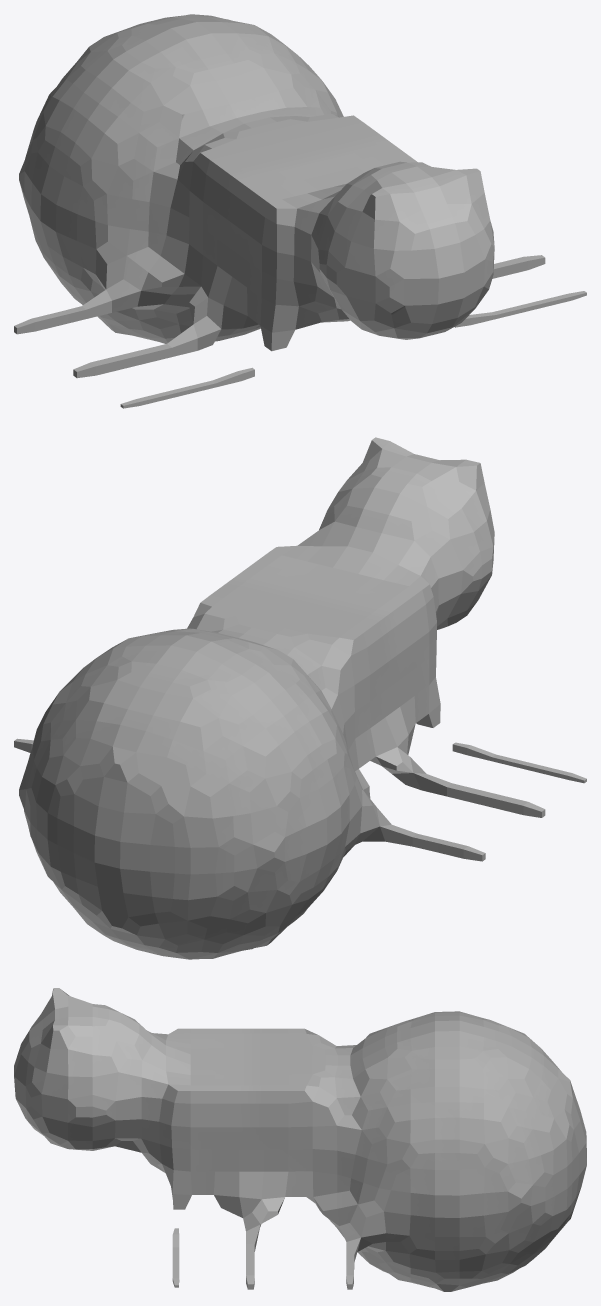
File: spider.glb
The picture shows the model from 3 angles, top to bottom: view 1: azimuth 30°, elevation 25°; view 2: azimuth 150°, elevation 25°; view 3: azimuth 270°, elevation 25°; orthographic projection. The views are drawn at different scales.
Visible parts, largest first — view 1: geometry_0; view 2: geometry_0; view 3: geometry_0.
Part boxes in pixels (x1=…): geometry_0: x1=14, y1=14, x2=586, y2=408; geometry_0: x1=14, y1=437, x2=586, y2=959; geometry_0: x1=14, y1=988, x2=586, y2=1291.
Size of the model in its own units: 1.3 by 0.8487 by 1.66.
1 material, 1 textured.
